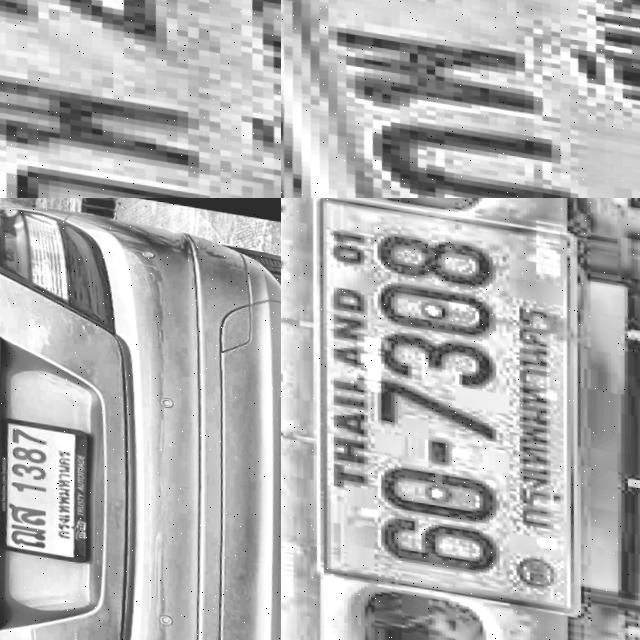license-plate: (281, 198, 608, 615), (281, 0, 640, 198), (0, 0, 281, 198), (0, 408, 95, 559)
